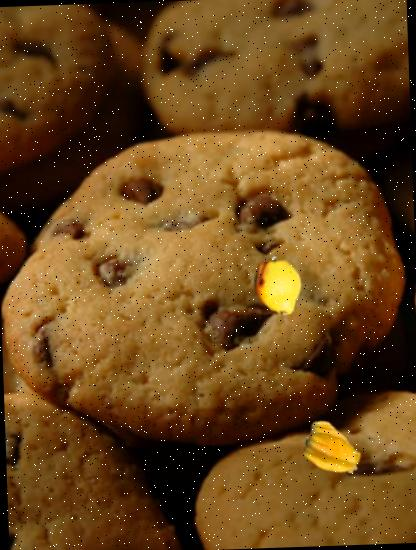Physalis: (304, 418, 365, 478)
Quince: (247, 256, 308, 316)
